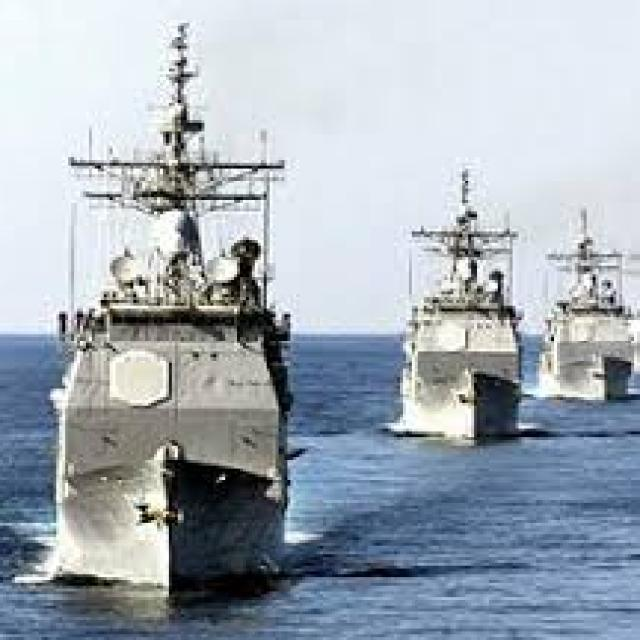navalvessels: (22, 29, 298, 582), (391, 193, 531, 445), (548, 217, 640, 400)
